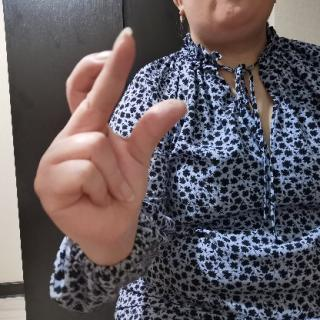DHELL: (30, 18, 195, 267)
